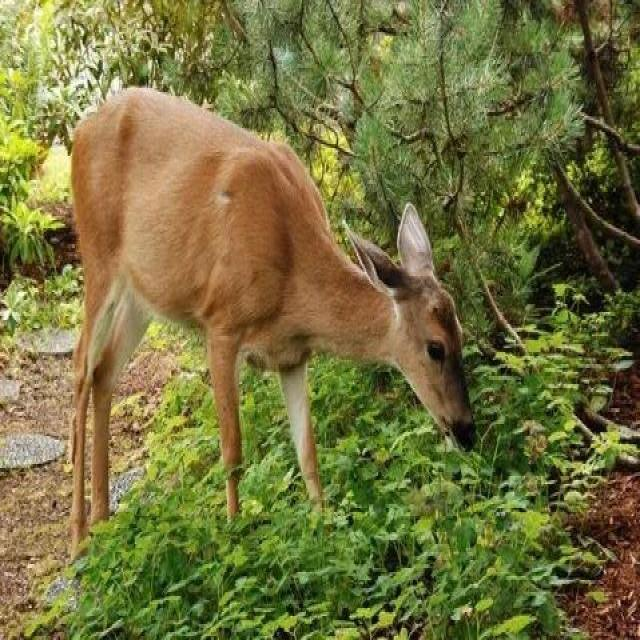deer: (83, 46, 508, 569)
